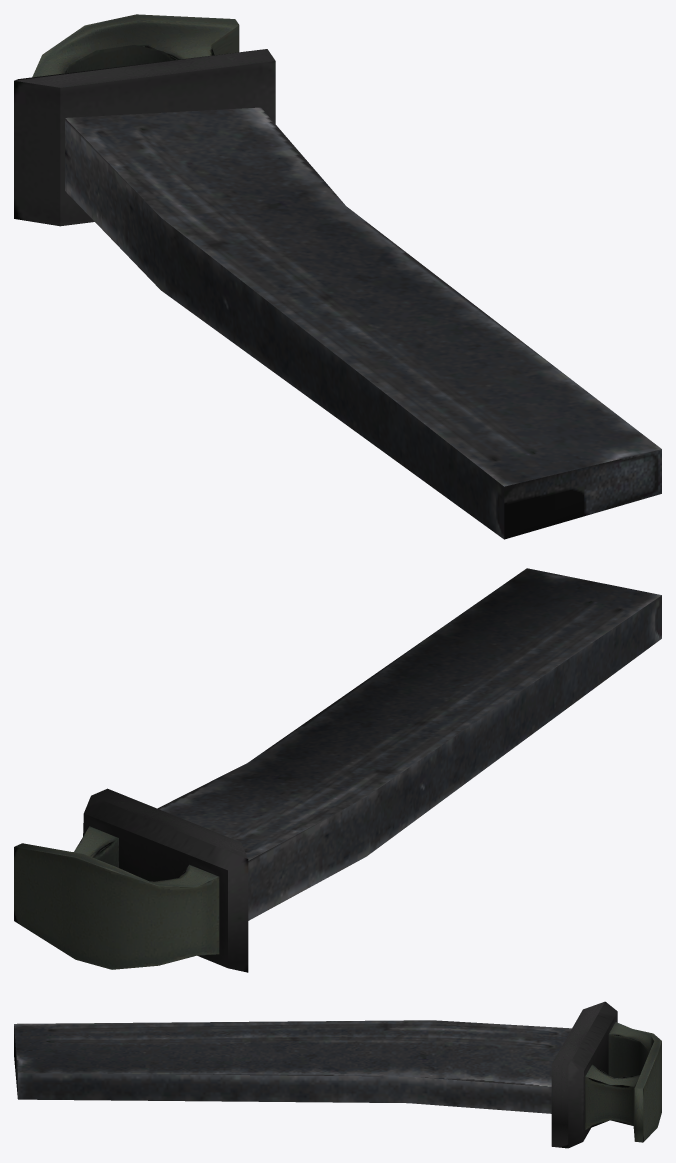
The model's file is t6_attach_fastmag_msmc_world_LOD1.obj.
3 renders of one model, top to bottom at view 1: azimuth 30°, elevation 25°; view 2: azimuth 150°, elevation 25°; view 3: azimuth 270°, elevation 25°, orthographic. The views are drawn at different scales.
Visible parts, largest first — view 1: mtl_t6_wpn_smg_msmc_camo1, mtl_t6_attach_fastmag; view 2: mtl_t6_wpn_smg_msmc_camo1, mtl_t6_attach_fastmag; view 3: mtl_t6_wpn_smg_msmc_camo1, mtl_t6_attach_fastmag.
Part boxes in pixels (box(x1,y1,x2,y2)): mtl_t6_wpn_smg_msmc_camo1: box(65, 107, 661, 539); mtl_t6_attach_fastmag: box(14, 14, 275, 226); mtl_t6_wpn_smg_msmc_camo1: box(157, 568, 661, 920); mtl_t6_attach_fastmag: box(14, 788, 248, 972); mtl_t6_wpn_smg_msmc_camo1: box(14, 1020, 571, 1113); mtl_t6_attach_fastmag: box(551, 1001, 661, 1148).
Bounding box in the file's own units: 5.9 × 3.01 × 21.41.
